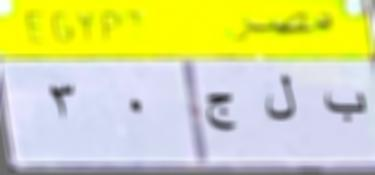0: (118, 90, 154, 120)
3: (45, 78, 80, 126)
baa: (321, 88, 370, 128)
jeem: (200, 88, 244, 140)
laam: (262, 74, 304, 132)
